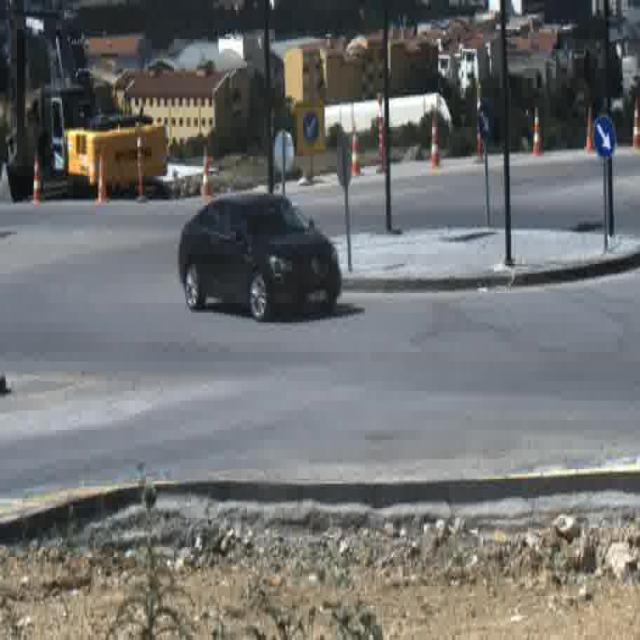Car: (177, 194, 337, 317)
